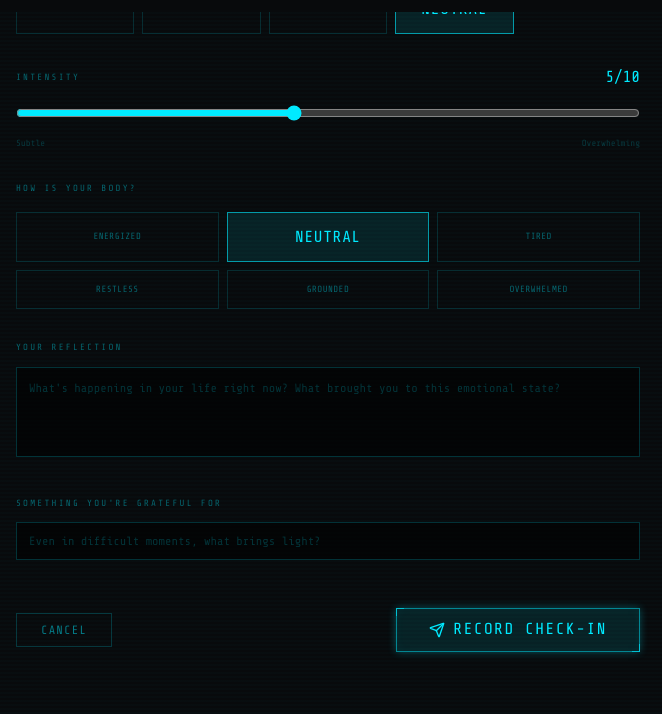
Test: Daily Resonance Record Check-in › surfaces a create failure and clears the busy state
Click the button "Record Check-in".
click(518, 630)  # box [396, 608, 640, 652]
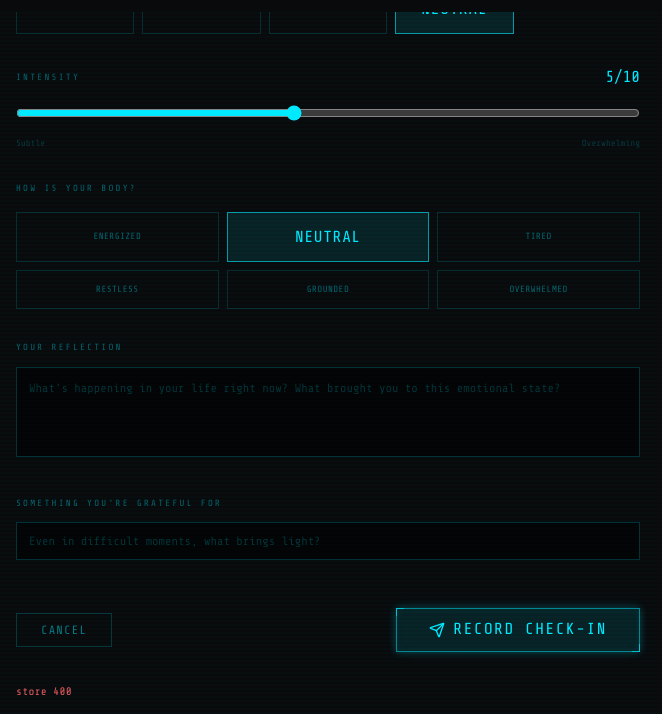
Check: the message "store 400" is shown, box [16, 684, 72, 698]
